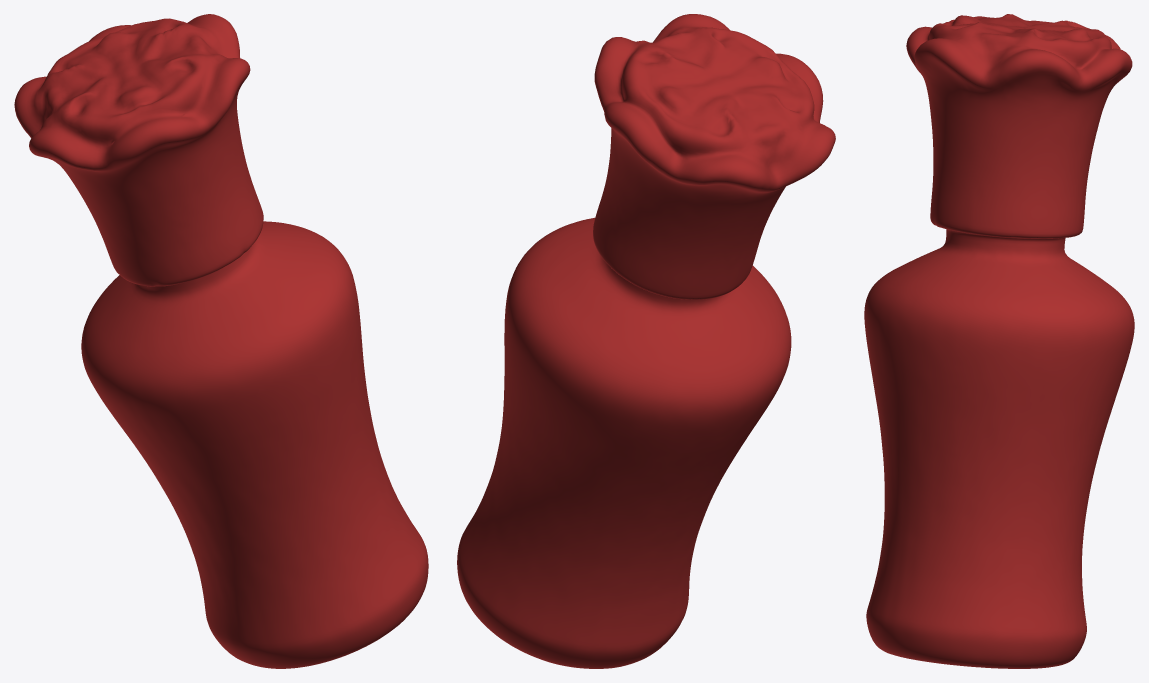
The model's file is red_perfume_bottle1.glb.
The picture shows the model from 3 angles, left to right: view 1: azimuth 30°, elevation 25°; view 2: azimuth 150°, elevation 25°; view 3: azimuth 270°, elevation 25°; orthographic projection. The views are drawn at different scales.
Parts seen in each view (by area): view 1: Mesh1_Mesh1.026; view 2: Mesh1_Mesh1.026; view 3: Mesh1_Mesh1.026.
Boxes of the visible parts, left/top/right/bottom form: Mesh1_Mesh1.026: left=14, top=14, right=428, bottom=668; Mesh1_Mesh1.026: left=457, top=14, right=835, bottom=668; Mesh1_Mesh1.026: left=864, top=14, right=1134, bottom=668.
Bounding box in the file's own units: 1.24 × 2.04 × 0.8388.
